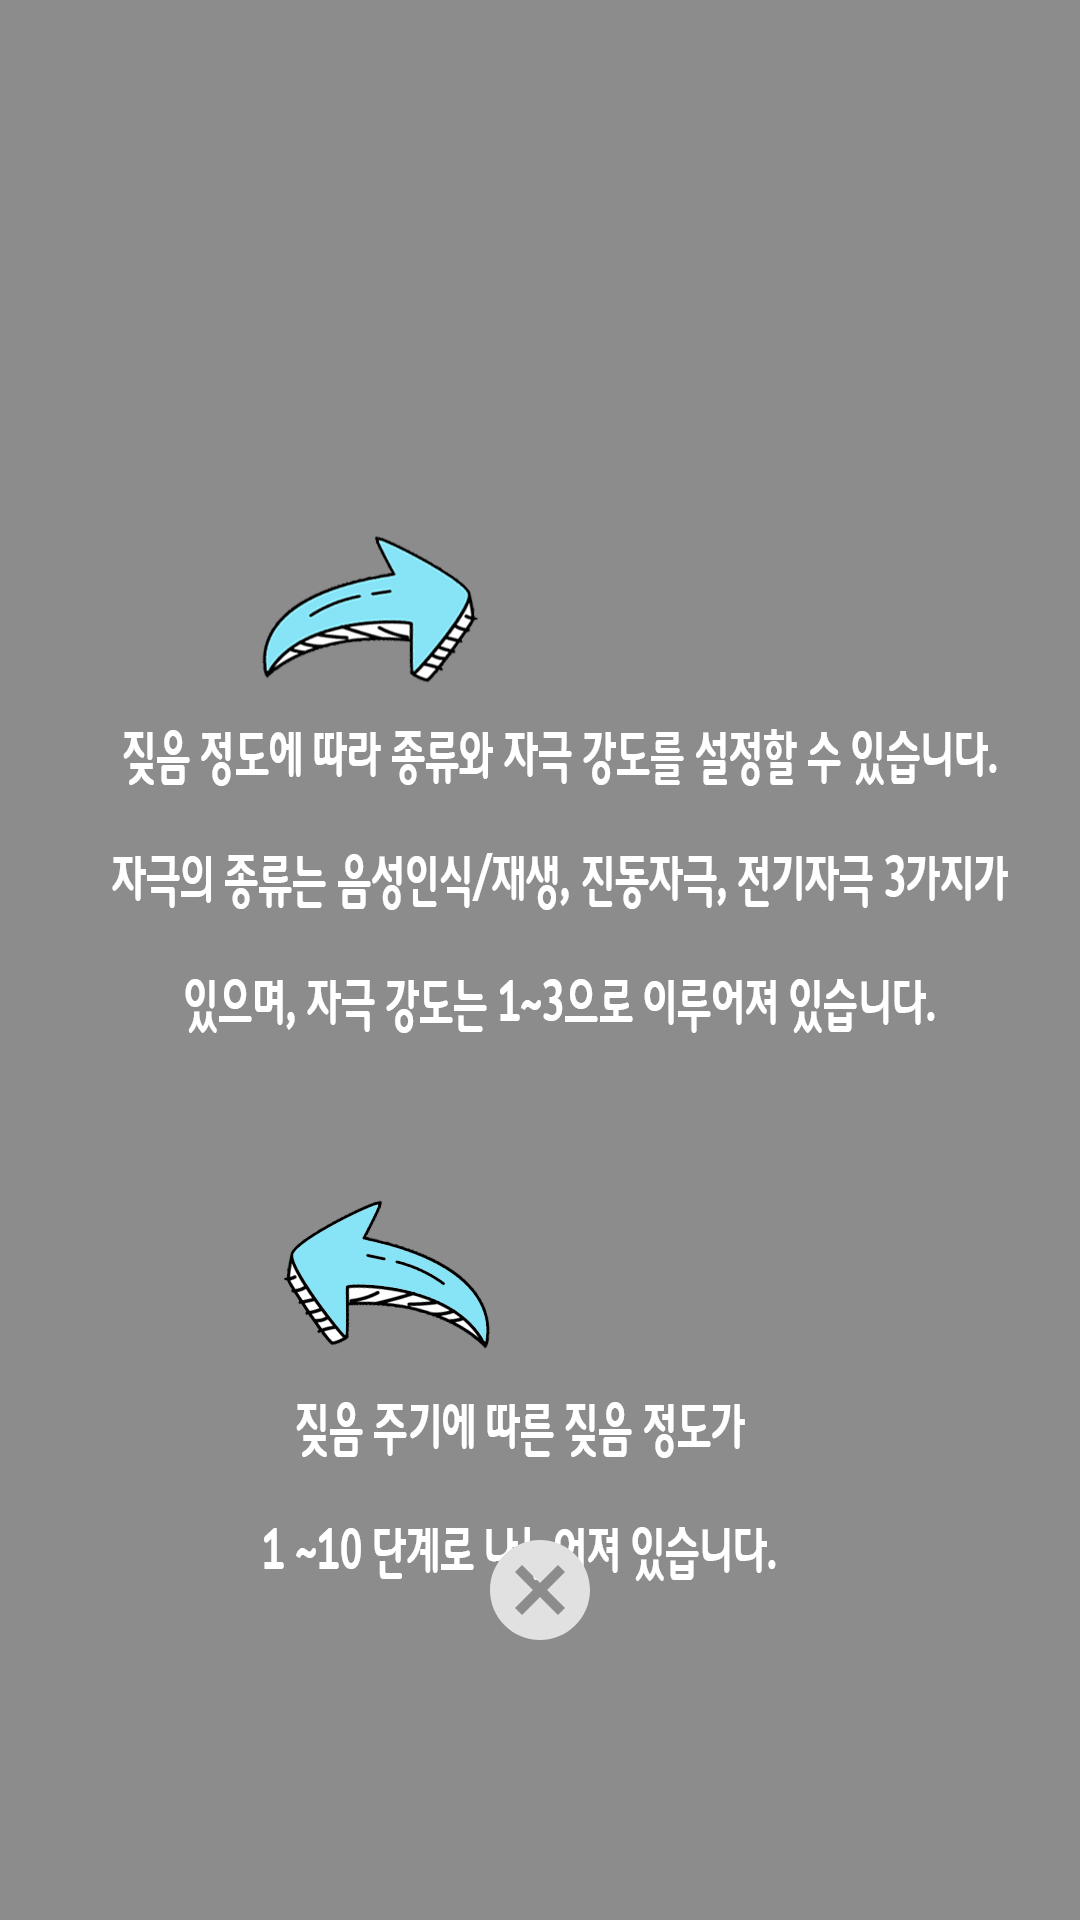

Named icons in this screenshot (1080 × 1920) and their bounding boxes, box(x1, y1, x2, y2):
cancel: box(486, 1530, 590, 1640)
